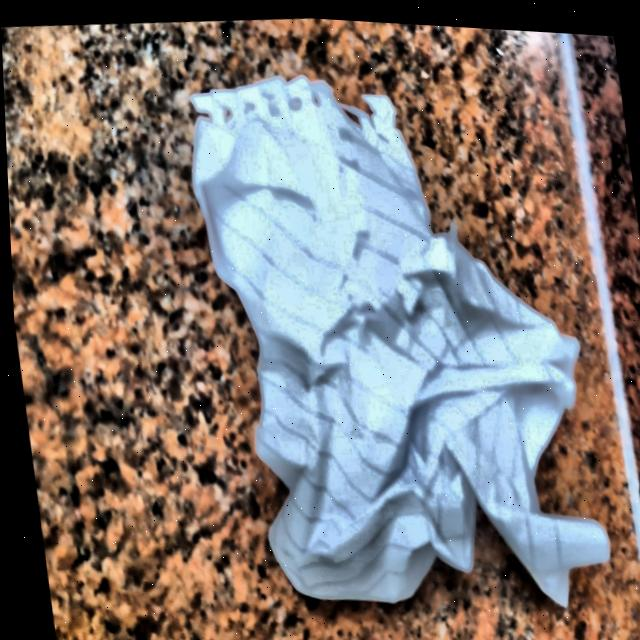paper: (171, 8, 624, 624)
